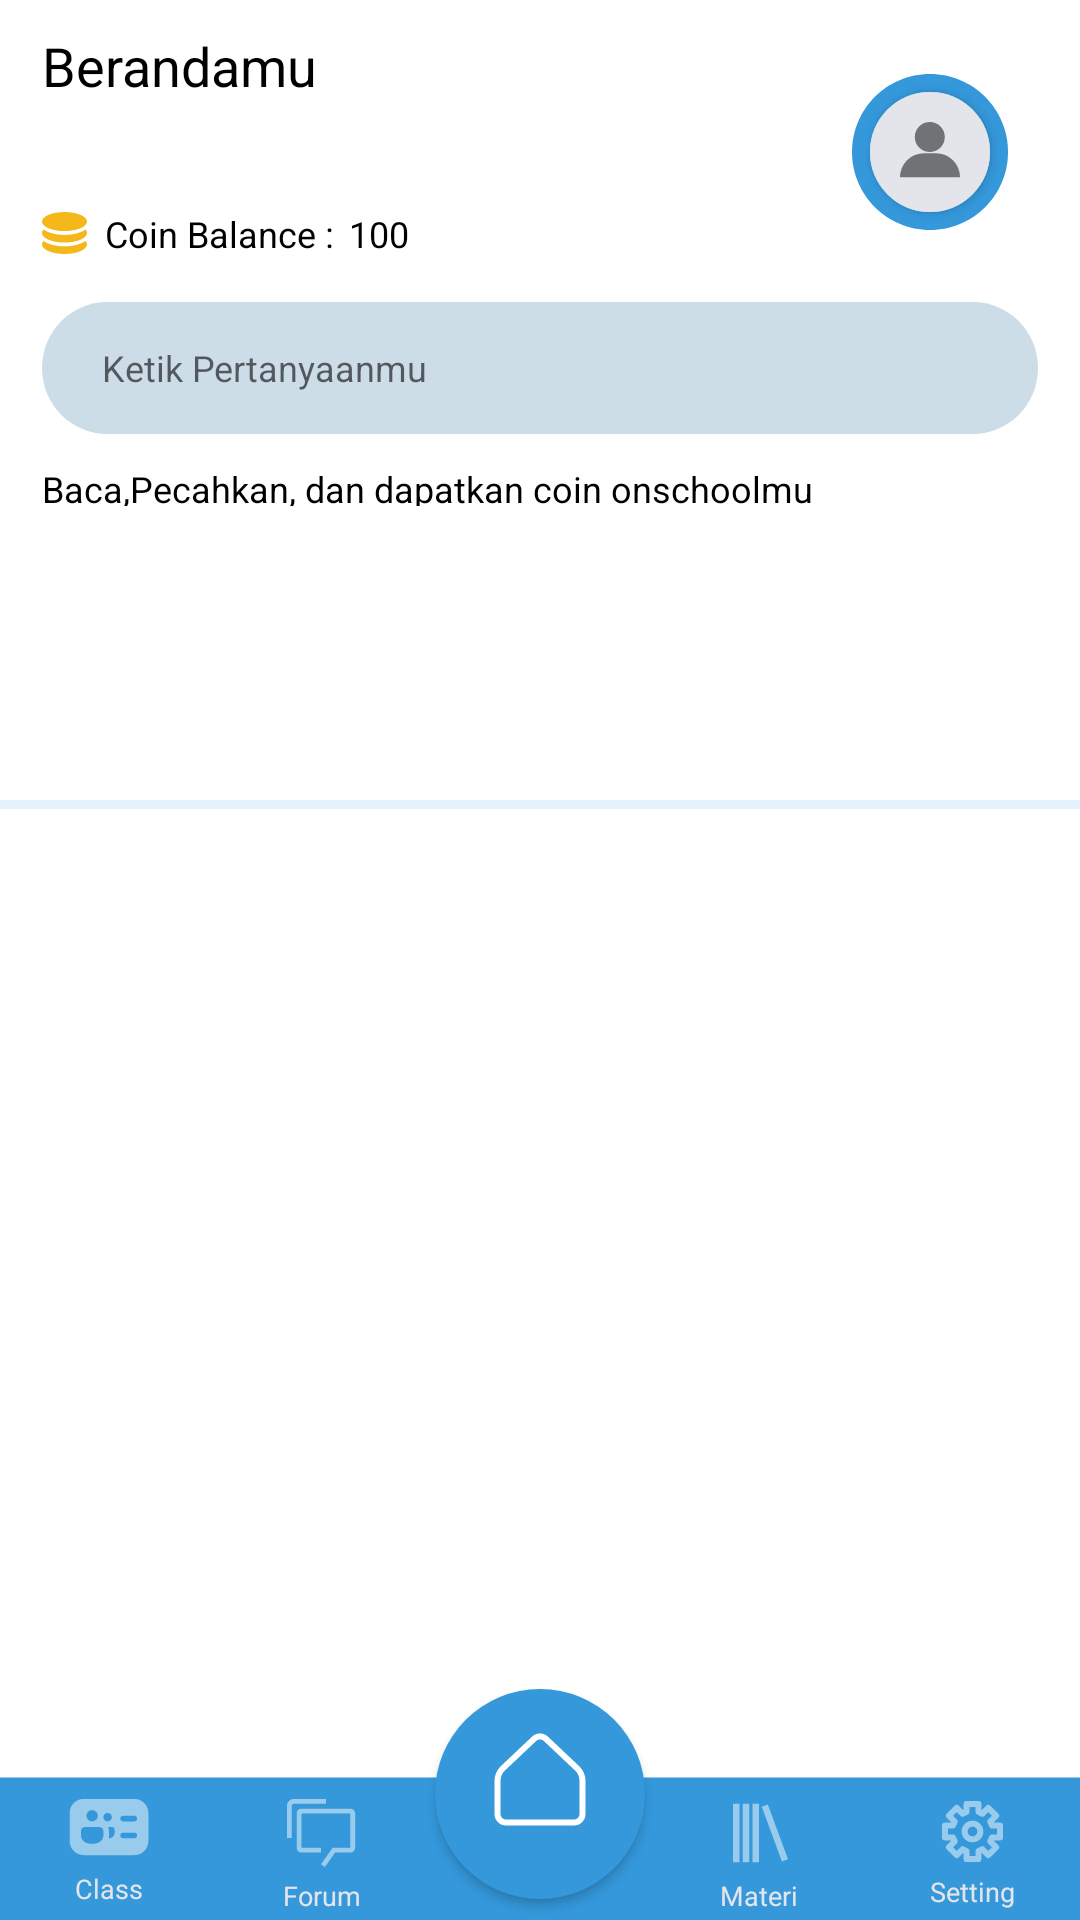

Icons on this 1080px x 1920px Android screen, each with the point to tap as (x=x, y=y):
home round: (x=540, y=1794)
